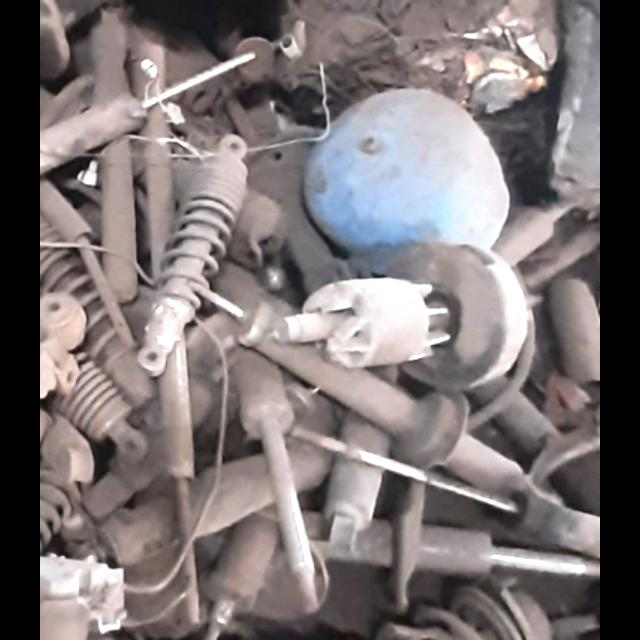Shock Absorber: (133, 143, 253, 380)
